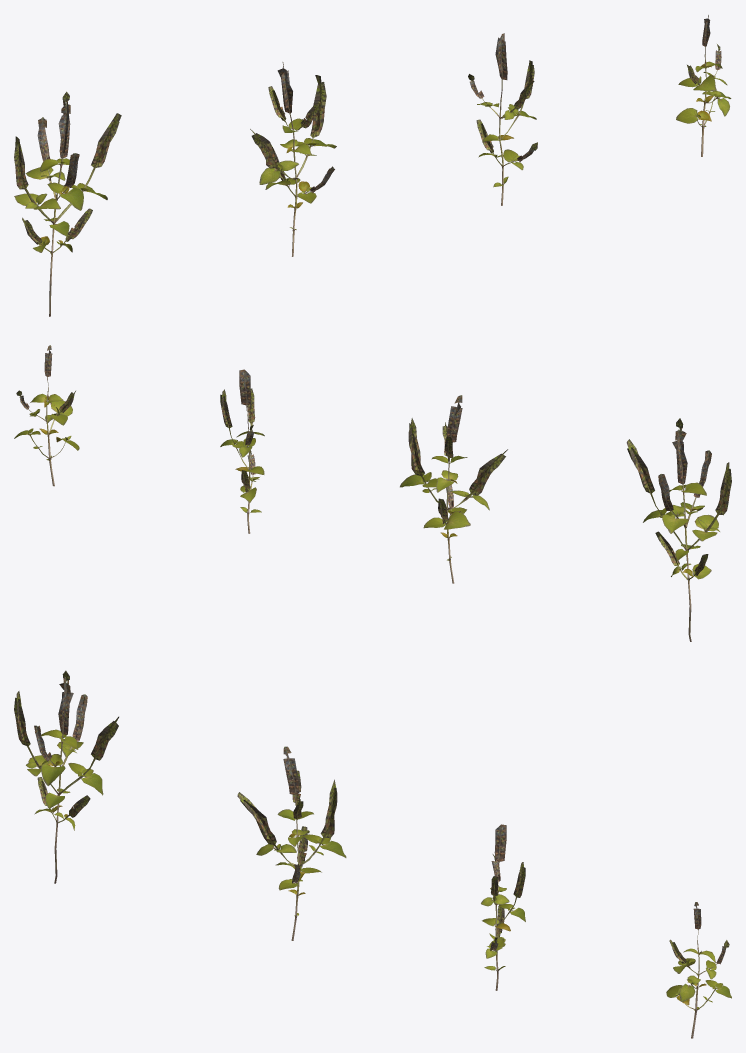
Rendered from shrub_03.glb.
The picture shows the model from 3 angles, top to bottom: view 1: azimuth 30°, elevation 25°; view 2: azimuth 150°, elevation 25°; view 3: azimuth 330°, elevation 25°; orthographic projection. The views are drawn at different scales.
Parts seen in each view (by area): view 1: shrub_03; view 2: shrub_03; view 3: shrub_03.
Part boxes in pixels (x1,y1,x2,y2): shrub_03: [14, 15, 731, 316]; shrub_03: [14, 345, 731, 641]; shrub_03: [14, 670, 731, 1038].
Bounding box in the file's own units: 4.88 × 1.44 × 0.54.
Materials: 1 (1 with a texture image).
